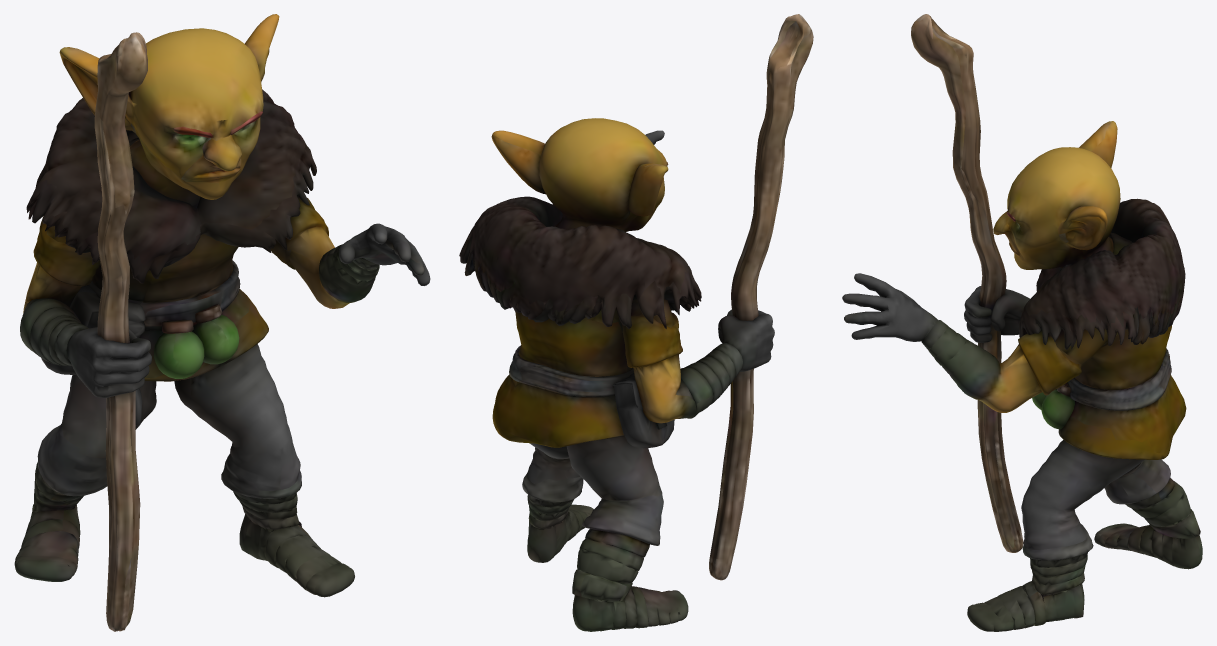
File: MZ4250 - Goblin Psionic_2.glb
The picture shows the model from 3 angles, left to right: view 1: azimuth 30°, elevation 25°; view 2: azimuth 150°, elevation 25°; view 3: azimuth 270°, elevation 25°; orthographic projection. The views are drawn at different scales.
Parts seen in each view (by area): view 1: Goblin Psionic.001; view 2: Goblin Psionic.001; view 3: Goblin Psionic.001.
Boxes of the visible parts, <box> form: Goblin Psionic.001: <box>14,14,430,631</box>; Goblin Psionic.001: <box>459,14,813,631</box>; Goblin Psionic.001: <box>842,14,1202,631</box>.
Bounding box in the file's own units: 29.25 × 60.15 × 37.55.
Materials: 1 (1 with a texture image).
